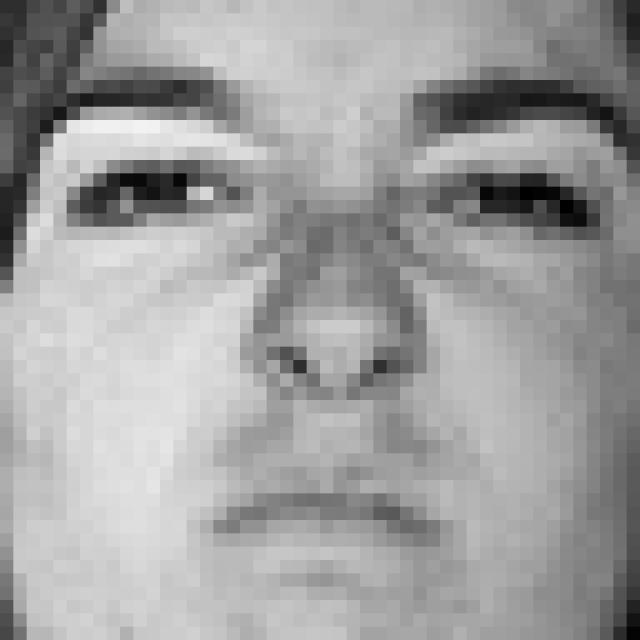disgust: (33, 72, 640, 610)
